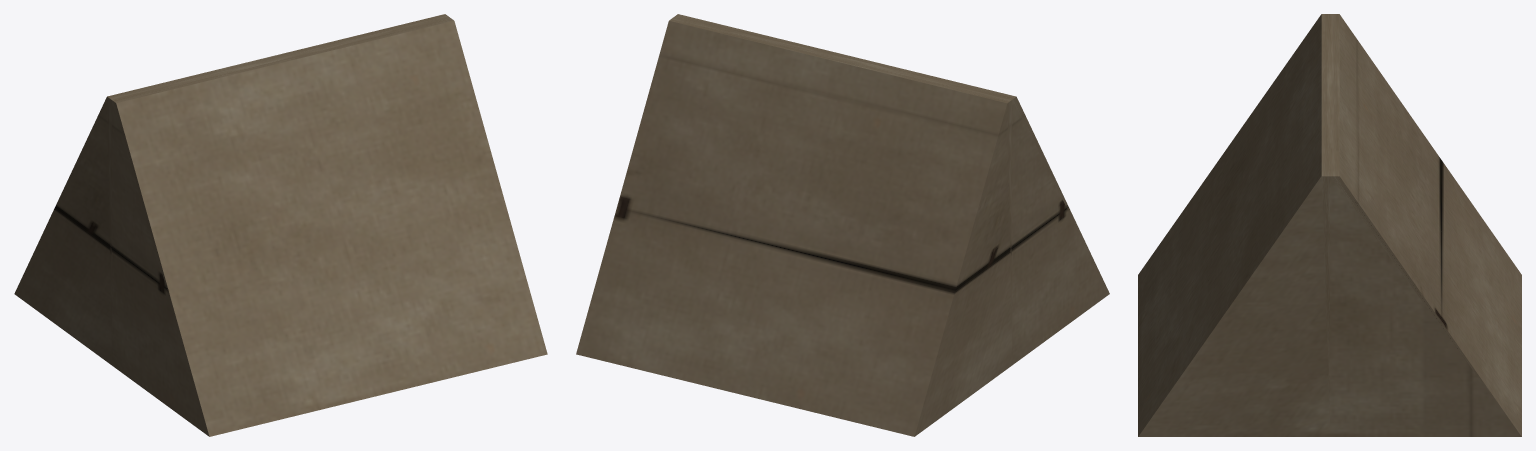
The model's file is tent.glb.
3 renders of one model, left to right at view 1: azimuth 30°, elevation 25°; view 2: azimuth 150°, elevation 25°; view 3: azimuth 270°, elevation 25°, orthographic.
Parts seen in each view (by area): view 1: Cube; view 2: Cube; view 3: Cube.
Boxes of the visible parts, x1,y1,x2,y2 form: Cube: [14, 14, 547, 436]; Cube: [576, 14, 1109, 436]; Cube: [1138, 14, 1521, 436].
Bounding box in the file's own units: 1 × 0.75 × 1.
Materials: 1 (1 with a texture image).
